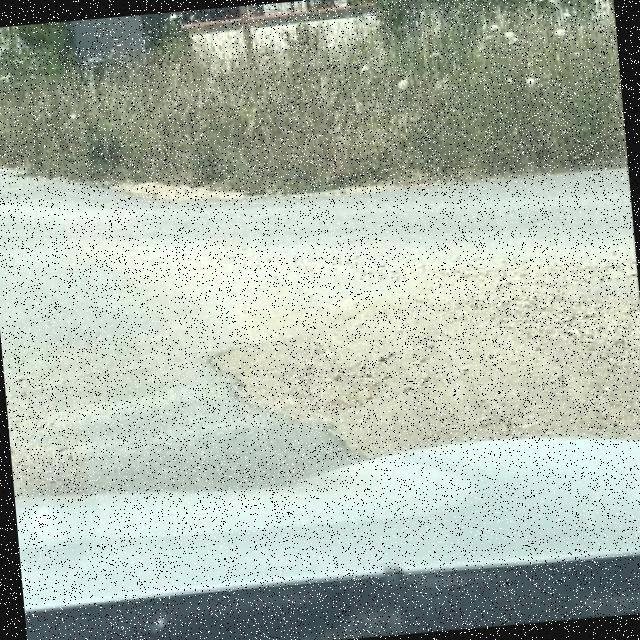Pothole: (211, 254, 640, 459)
